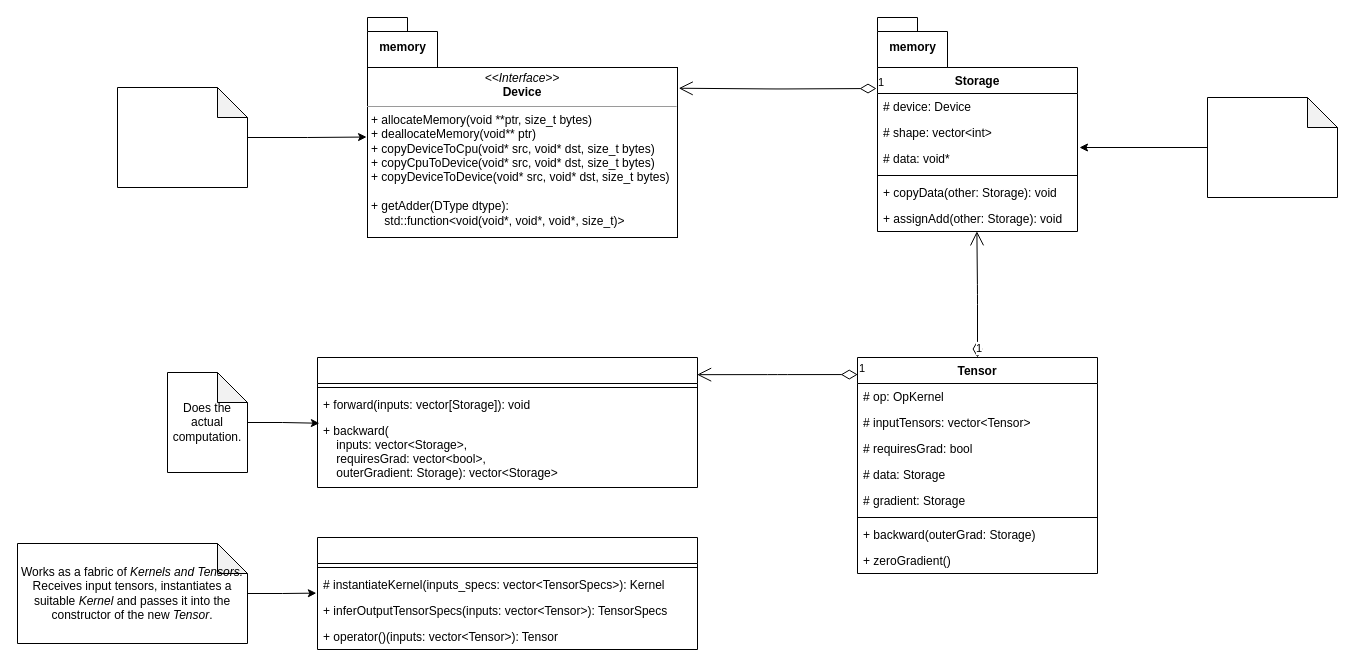
This 1355x670 diagram has some shape labels left out. Each missing label, with the box of its shape:
Does memory allocation on a specific device via unified API.: (116, 86, 248, 188)
Encapsulates all the memory level routines needed for storing numerical data.: (1206, 96, 1338, 198)
Kernel: (316, 356, 698, 488)
Op: (316, 536, 698, 650)
